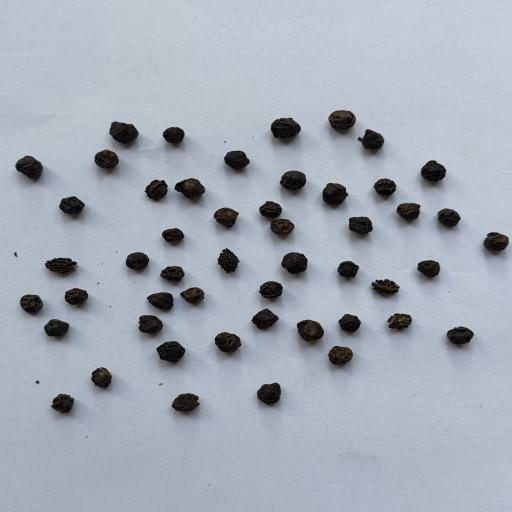Black_pepper: (160, 388, 218, 421), (244, 375, 292, 410), (169, 170, 211, 203), (260, 114, 309, 142), (437, 322, 484, 350), (159, 124, 205, 152), (106, 117, 150, 146), (324, 344, 373, 370), (47, 193, 95, 219), (210, 205, 249, 236), (247, 305, 288, 334), (84, 362, 122, 392), (420, 156, 457, 186), (319, 178, 351, 212), (36, 319, 74, 347), (344, 213, 386, 238), (278, 252, 320, 277), (44, 390, 81, 418), (15, 152, 48, 183), (152, 340, 191, 366), (368, 172, 404, 200), (214, 329, 249, 357), (135, 315, 174, 340), (220, 148, 257, 173), (325, 104, 356, 133), (16, 292, 50, 318), (410, 258, 449, 280), (63, 284, 98, 308), (279, 170, 314, 194), (358, 126, 388, 154), (141, 289, 177, 312), (433, 204, 467, 228), (483, 228, 512, 256), (296, 318, 326, 344), (123, 248, 155, 272), (176, 286, 214, 306), (91, 146, 120, 169), (160, 226, 190, 248), (256, 200, 292, 218), (258, 280, 290, 300), (334, 258, 363, 280), (338, 314, 367, 336), (160, 262, 187, 283), (397, 202, 423, 223), (268, 219, 296, 236)
papaya_seed: (214, 241, 252, 278), (39, 256, 89, 276), (368, 274, 400, 300), (139, 178, 169, 203), (387, 308, 416, 333)
